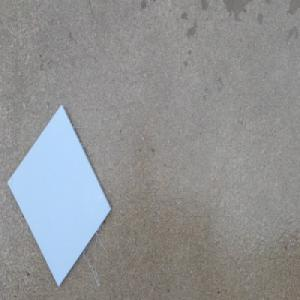PaintChip: (5, 104, 111, 286)
